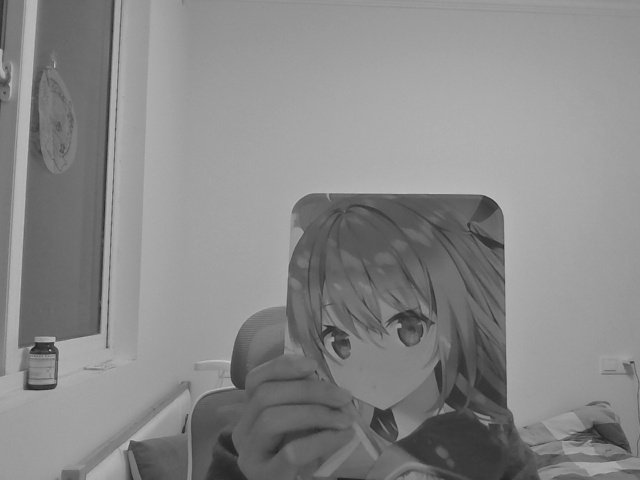face: (310, 277, 447, 416)
